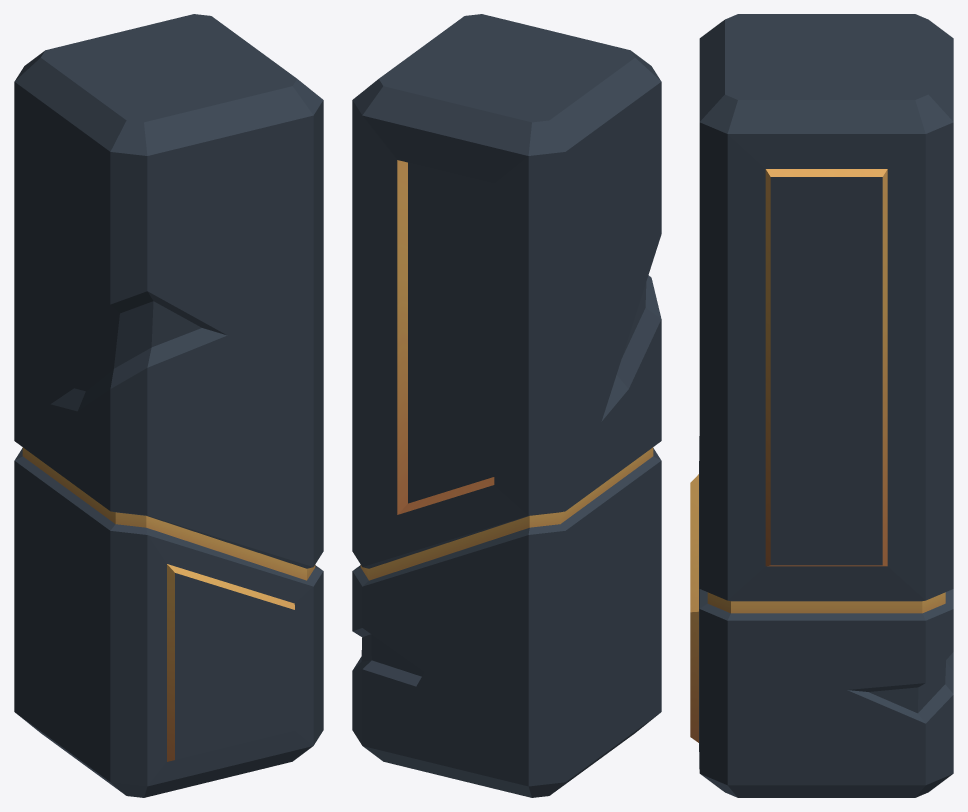
Rendered from Alien_blockA.FBX.
3 renders of one model, left to right at view 1: azimuth 30°, elevation 25°; view 2: azimuth 150°, elevation 25°; view 3: azimuth 270°, elevation 25°, orthographic. The views are drawn at different scales.
Parts seen in each view (by area): view 1: Alien_blockA; view 2: Alien_blockA; view 3: Alien_blockA.
Part boxes in pixels (x1,y1,x2,y2): Alien_blockA: (14,14,323,797); Alien_blockA: (352,14,661,797); Alien_blockA: (690,14,953,797).
Size of the model in its own units: 3.63 by 10.63 by 3.64.
